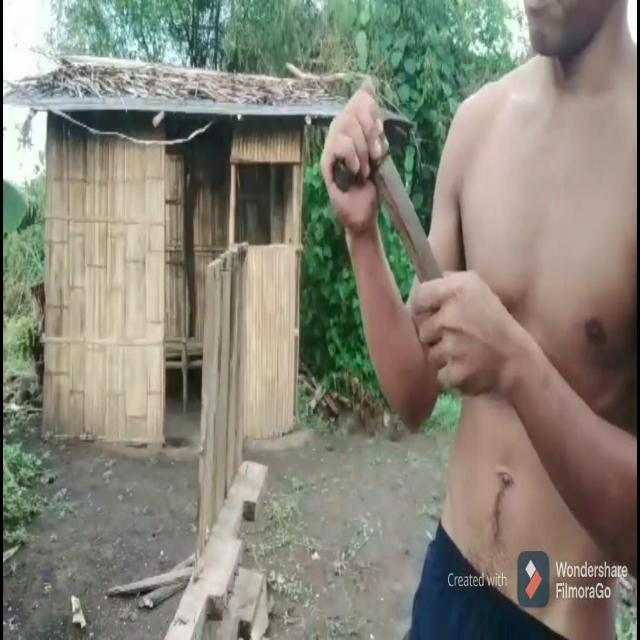hammer: (332, 109, 443, 291)
